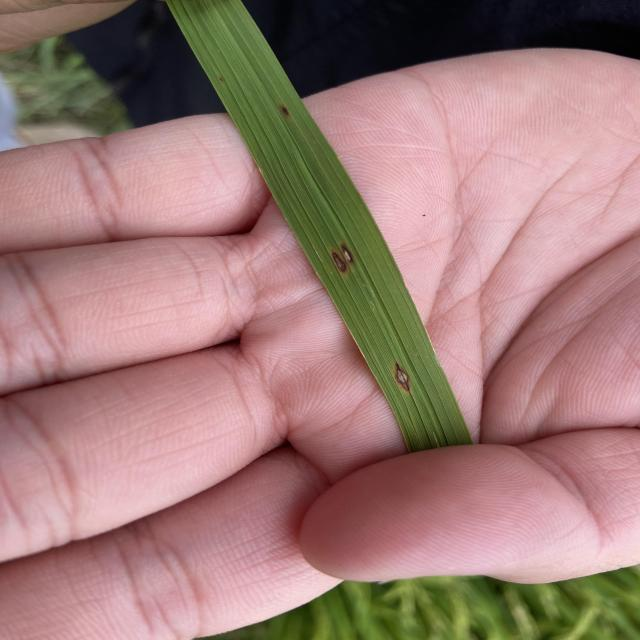Dao on: (393, 362, 411, 393), (331, 250, 347, 274), (340, 243, 354, 264)
